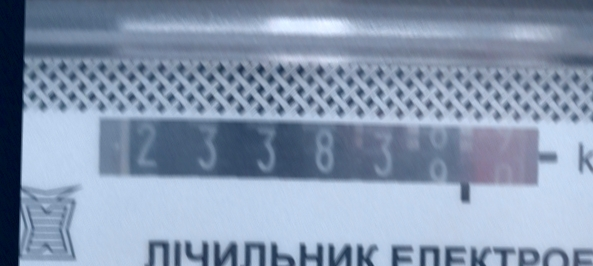0: (492, 161, 515, 188)
2: (134, 122, 159, 169)
3: (192, 122, 222, 172), (250, 125, 280, 174), (369, 131, 394, 177)
8: (309, 128, 338, 175), (426, 124, 450, 152)
9: (492, 125, 515, 155), (426, 156, 448, 186)
screen: (85, 107, 560, 209)
